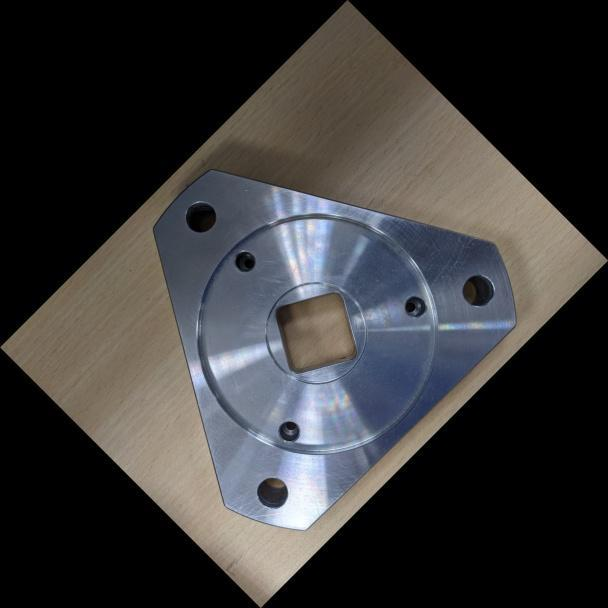hole: (168, 186, 229, 248), (451, 262, 509, 321), (242, 463, 301, 521), (217, 233, 270, 286), (391, 281, 443, 333), (263, 409, 311, 456)
